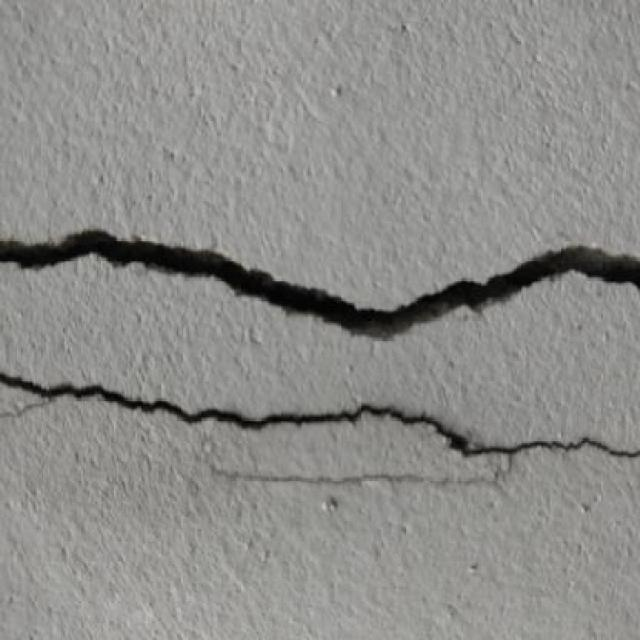GRIETA: (0, 229, 639, 335), (0, 373, 639, 456)
